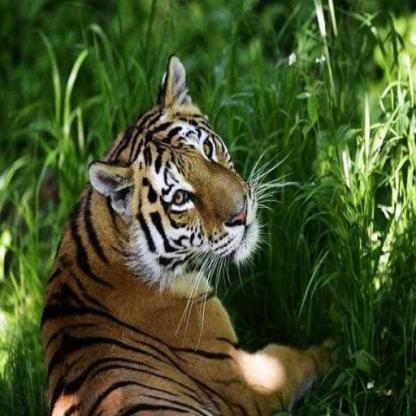Tiger: (30, 49, 339, 415)
